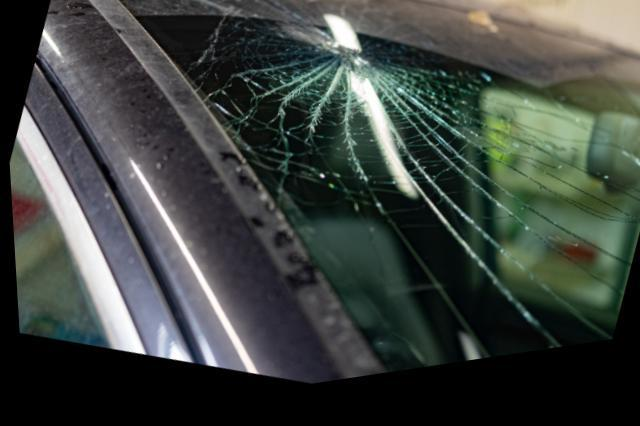glass shatter: (115, 0, 640, 384)
